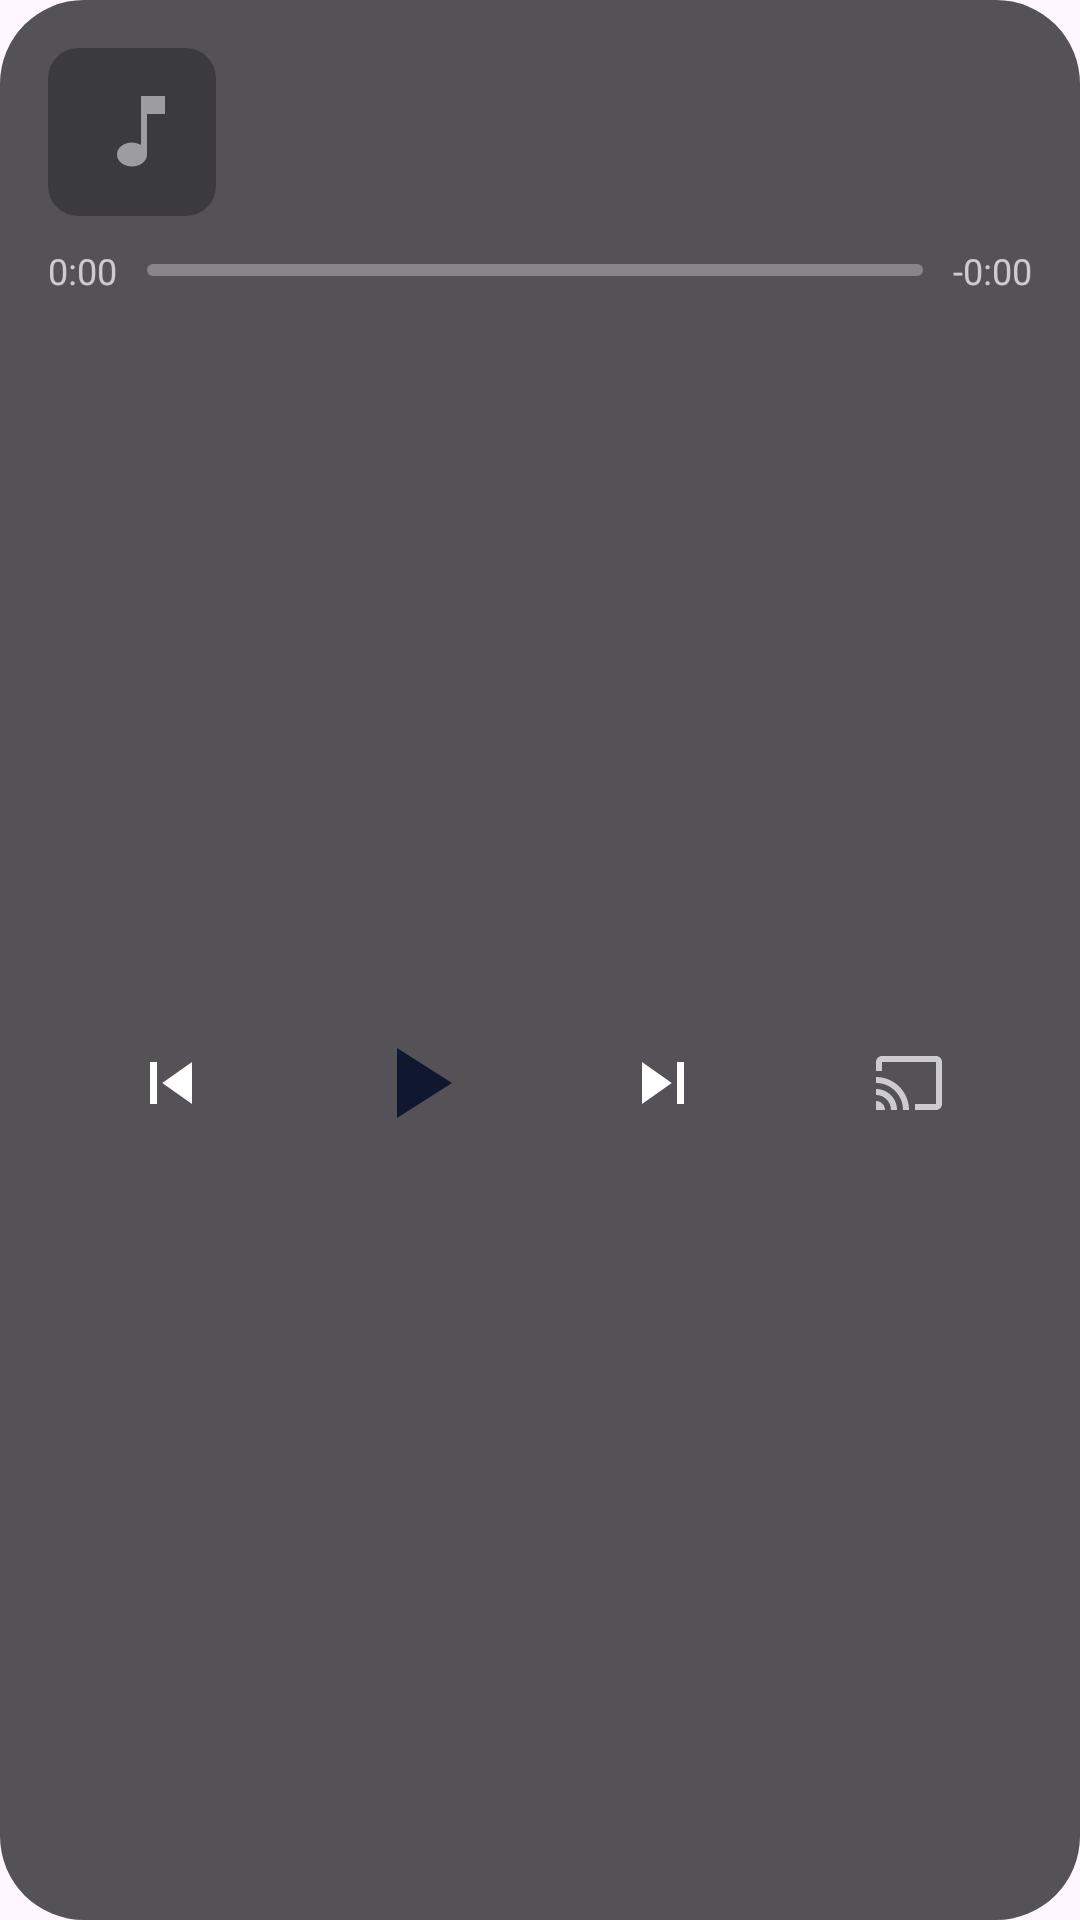

Screen size 1080×1920. Icon name, then its center in pixels as [x,y]:
Bài tiếp: [663,1083]
Bài trước: [171,1083]
Phát nhạc: [424,1083]
Thiết bị phát: [909,1083]
